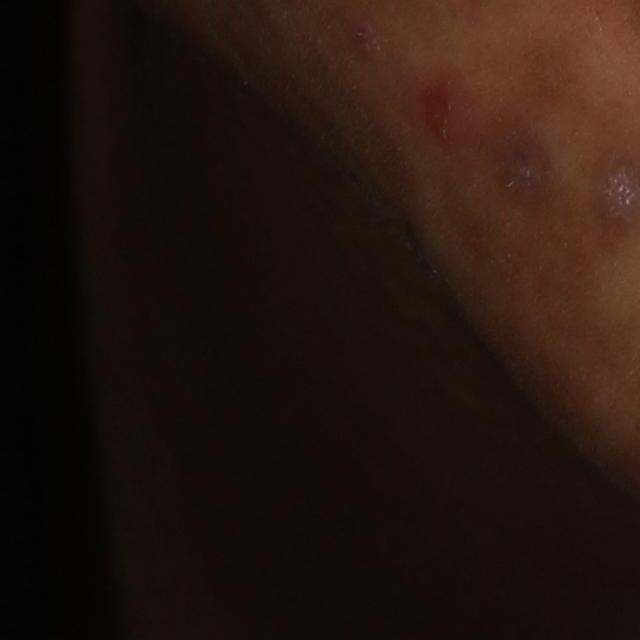papule: (413, 81, 463, 152)
